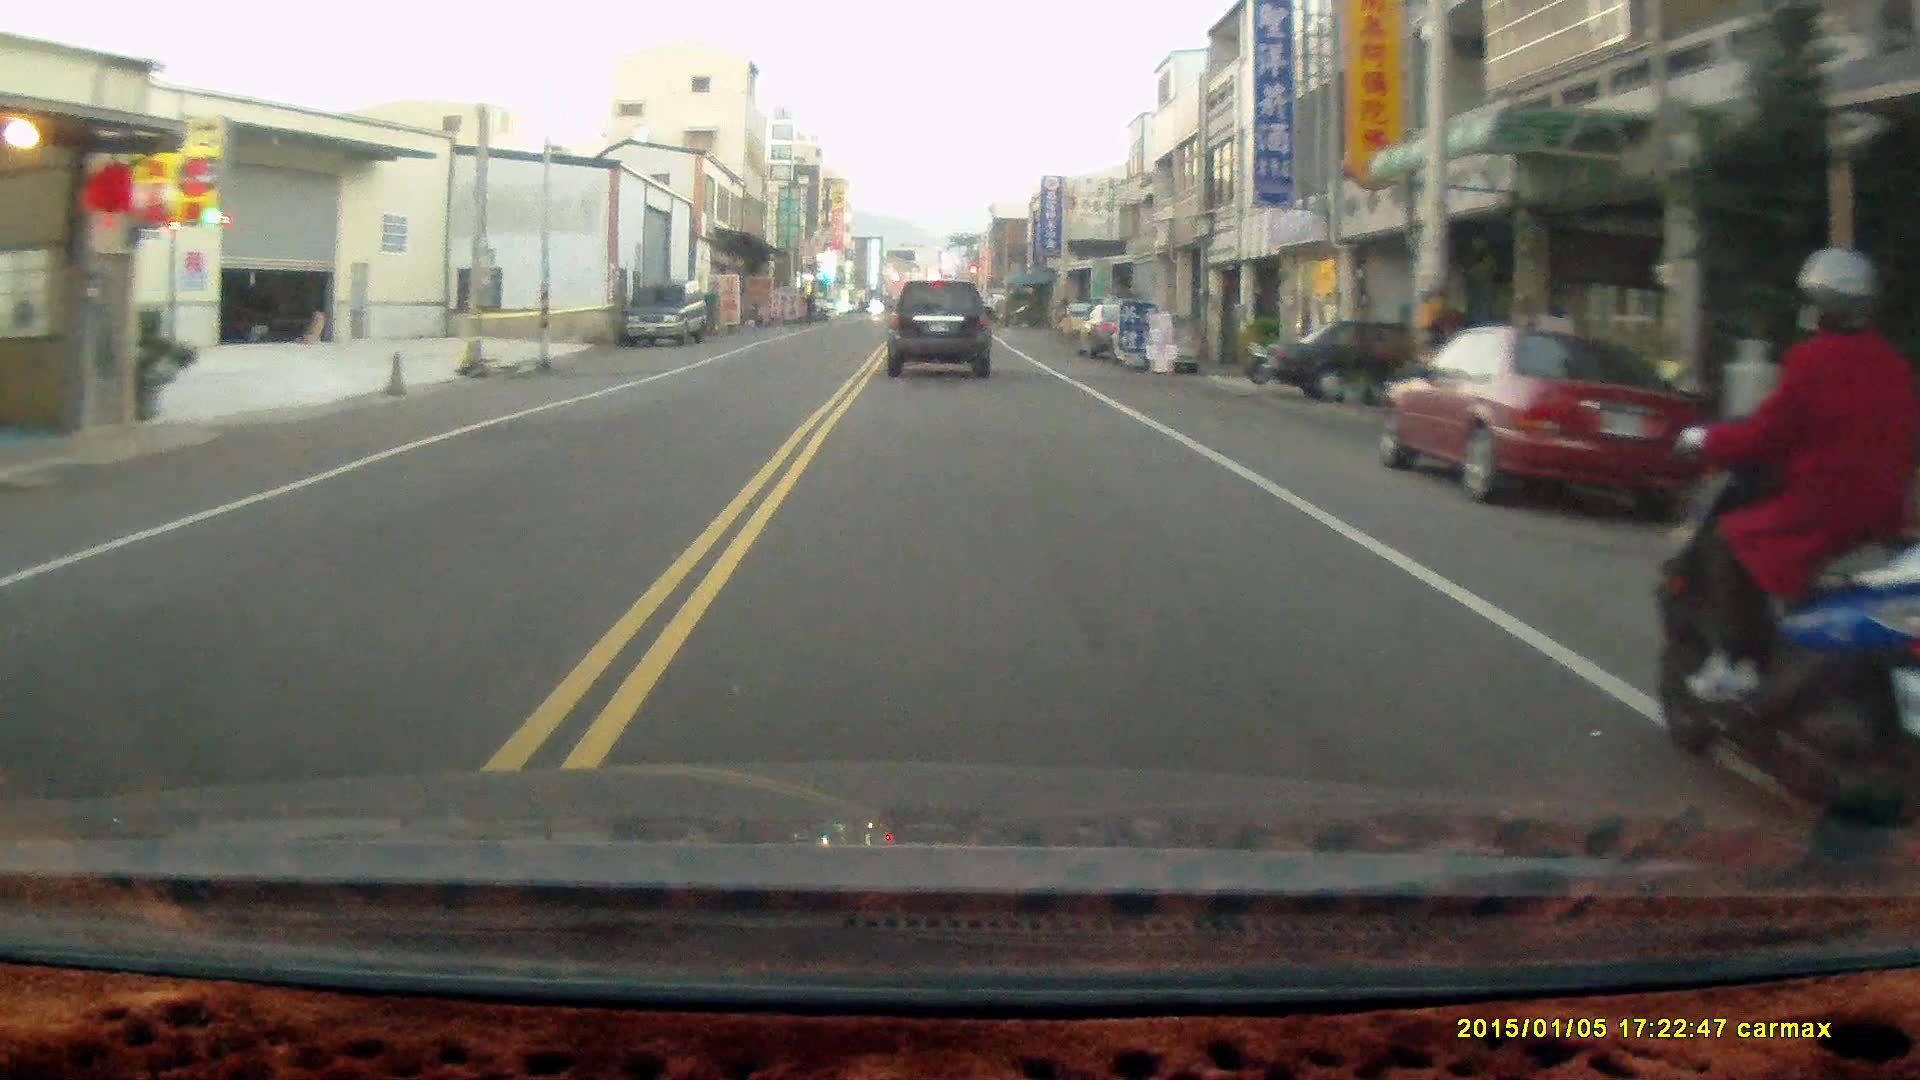rider: (1655, 249, 1913, 834)
vehicle: (1382, 323, 1731, 519), (1251, 311, 1492, 400), (886, 280, 995, 383), (615, 283, 714, 348)
